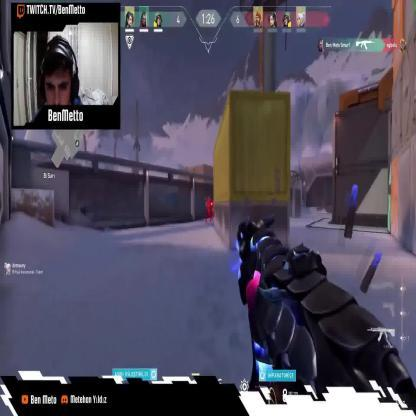enemy: (204, 196, 212, 222), (209, 195, 216, 223)
enemy_head: (207, 197, 210, 202)
